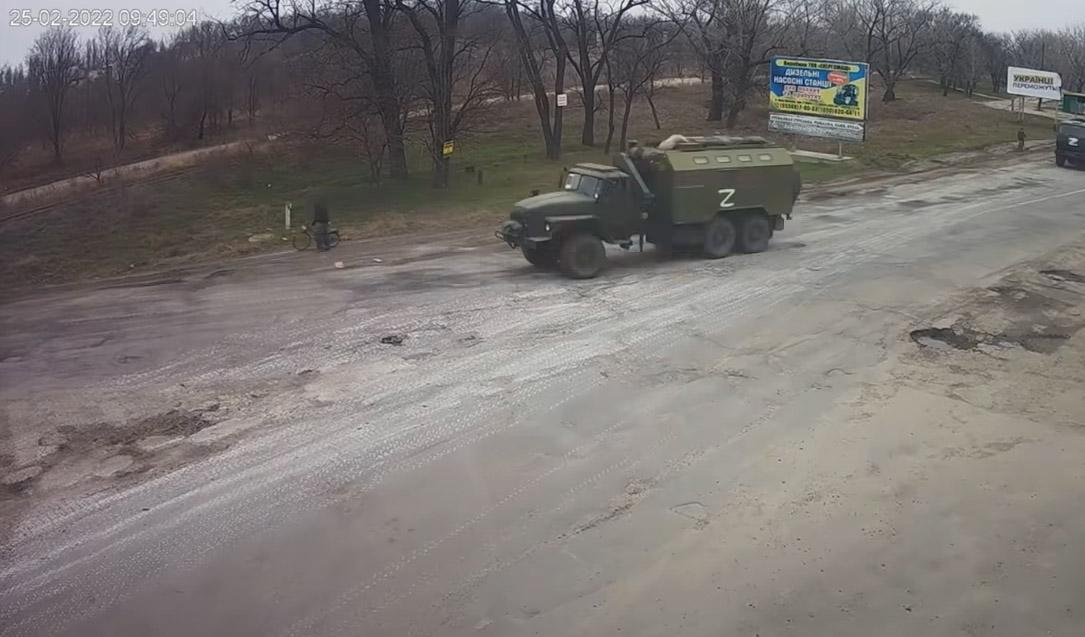person: (1018, 127, 1026, 155)
truck: (497, 127, 815, 280), (1053, 117, 1085, 174)
